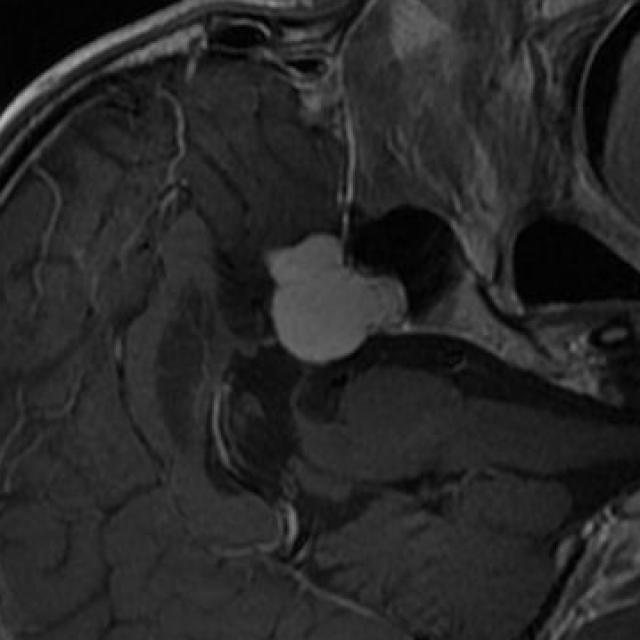meningioma: (266, 234, 408, 364)
